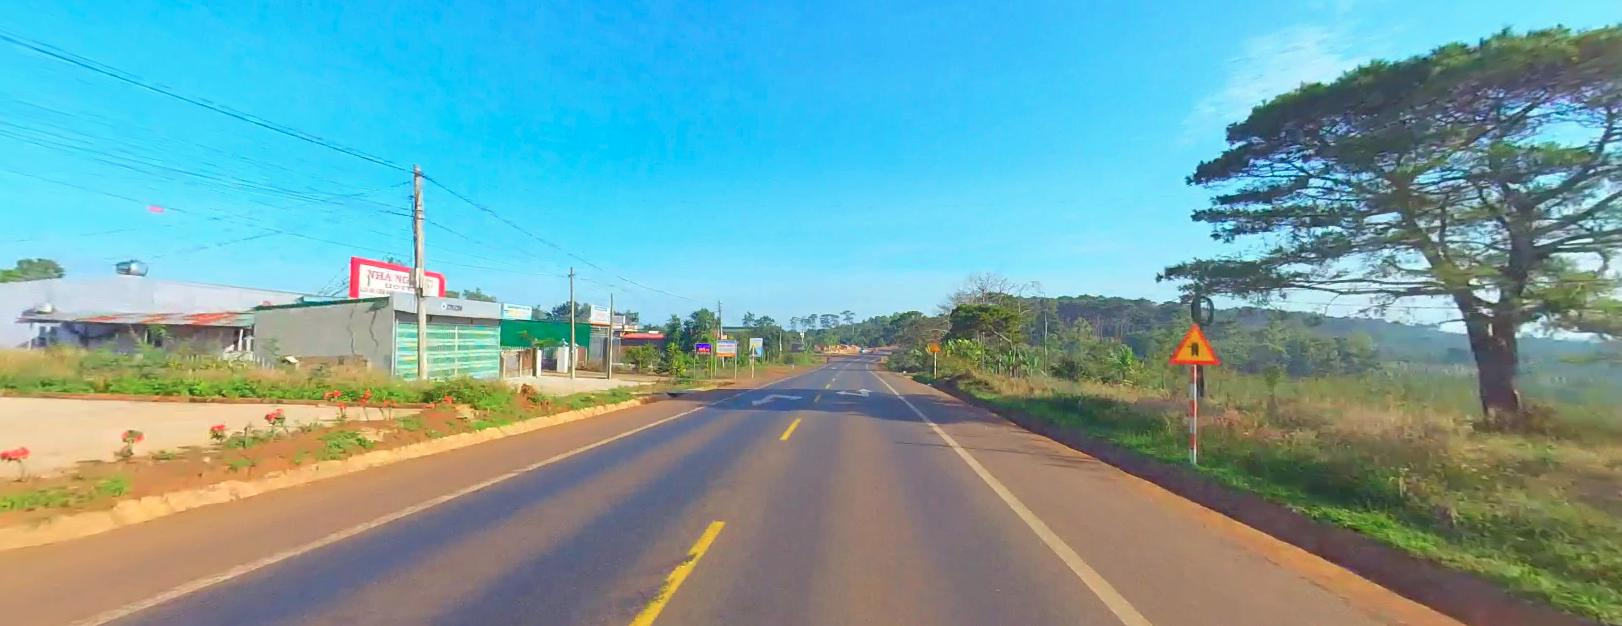Nguy hiem: (1169, 323, 1221, 365), (928, 340, 939, 350)
